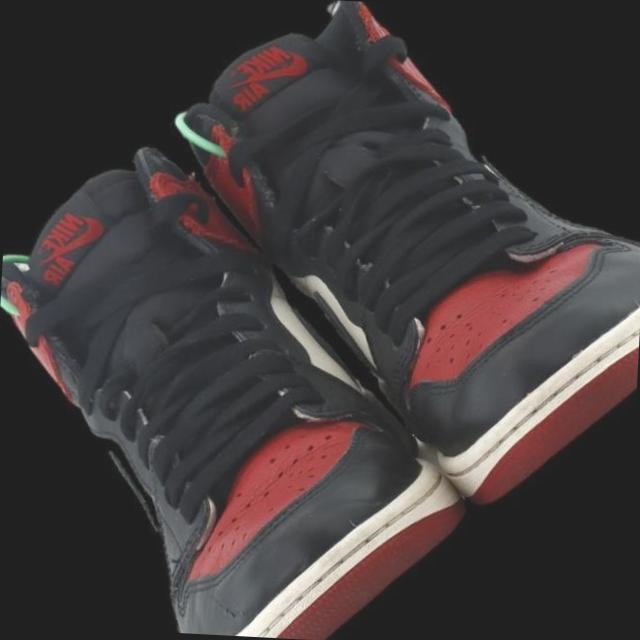nike_original_jordan: (0, 102, 498, 640), (127, 0, 640, 522)
